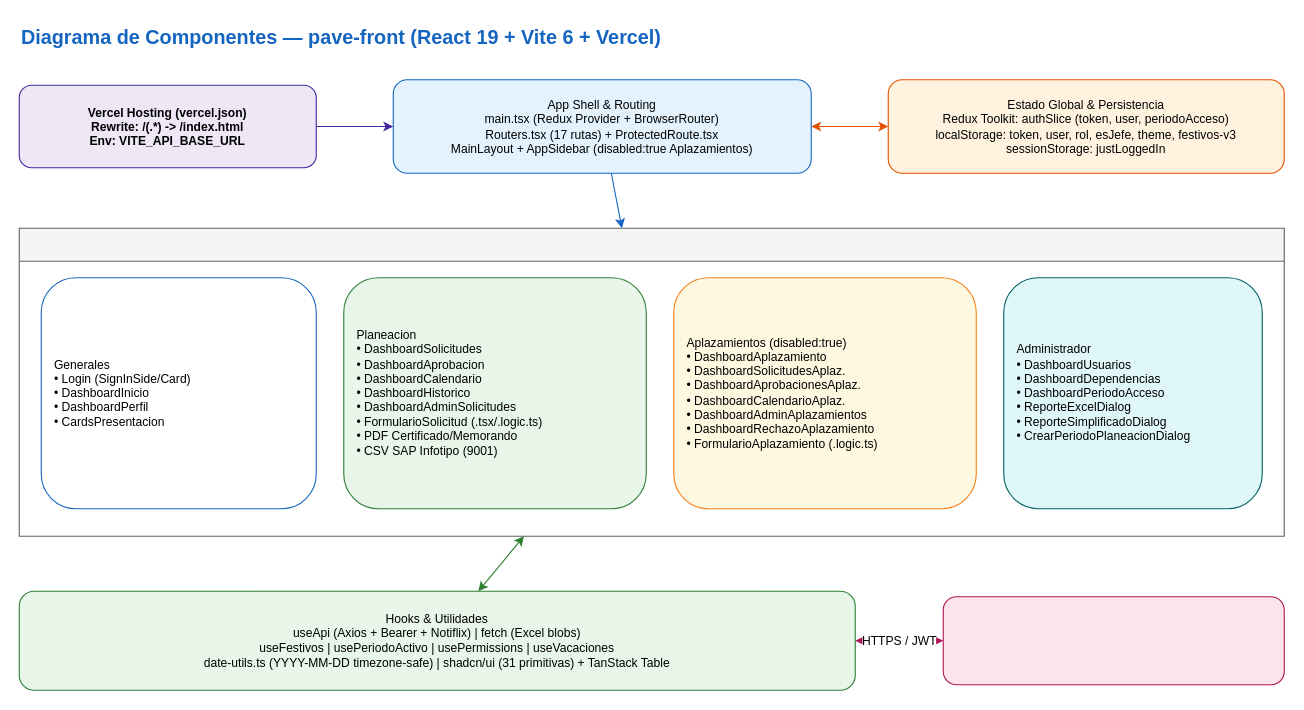
The diagram is 1304 pixels wide and 710 high, and some of its shapes have lost their labels. The box of each missing label's shape, as (x1, y1, x2, y2) in pixels:
Modulos de Paginas y Componentes (src/pages + src/components): (18, 227, 1284, 536)
pave-back API ${VITE_API_BASE_URL} (NestJS /pav/*): (942, 596, 1284, 685)
